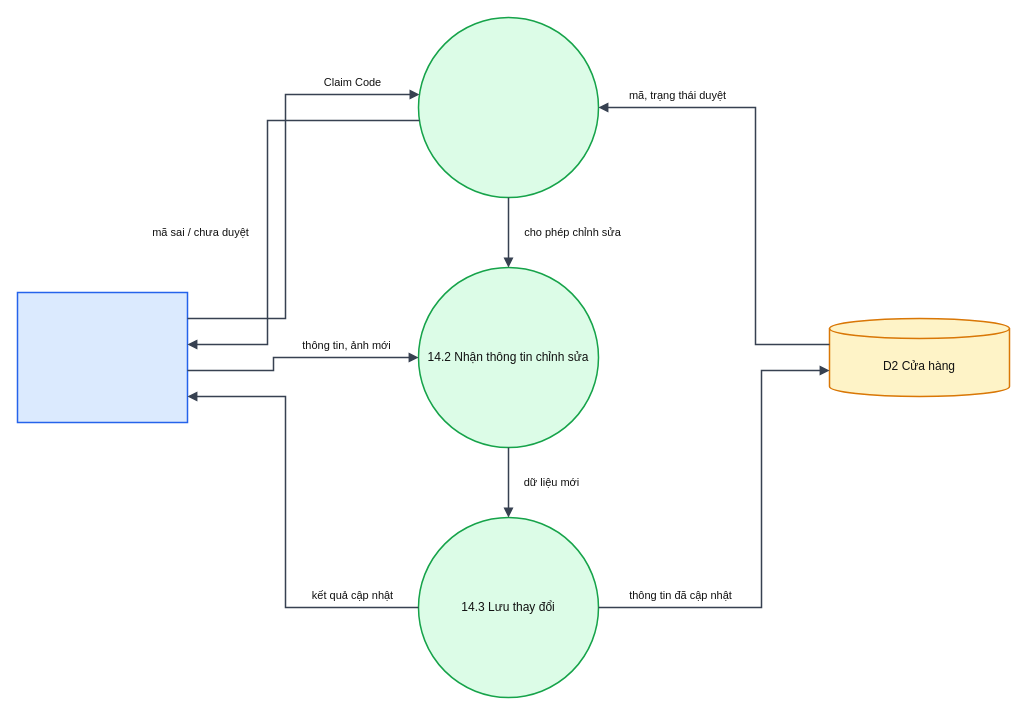
The diagram is 1028 pixels wide and 716 high, and some of its shapes have lost their labels. Here are the shapes that lost their labels. From the top down, the centre of each, then its label:
point 508,107: 14.1 Xác thực Claim Code
point 102,357: Chủ quán
